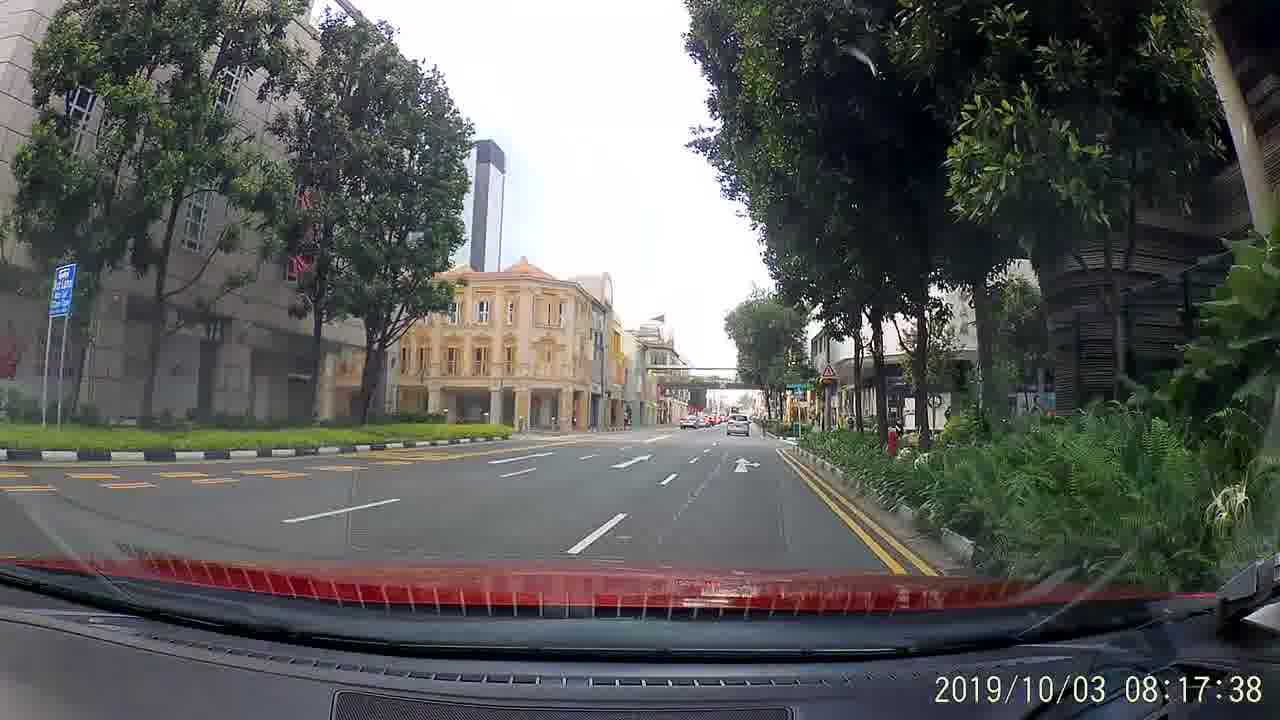car: (724, 412, 755, 442), (676, 413, 702, 432)
